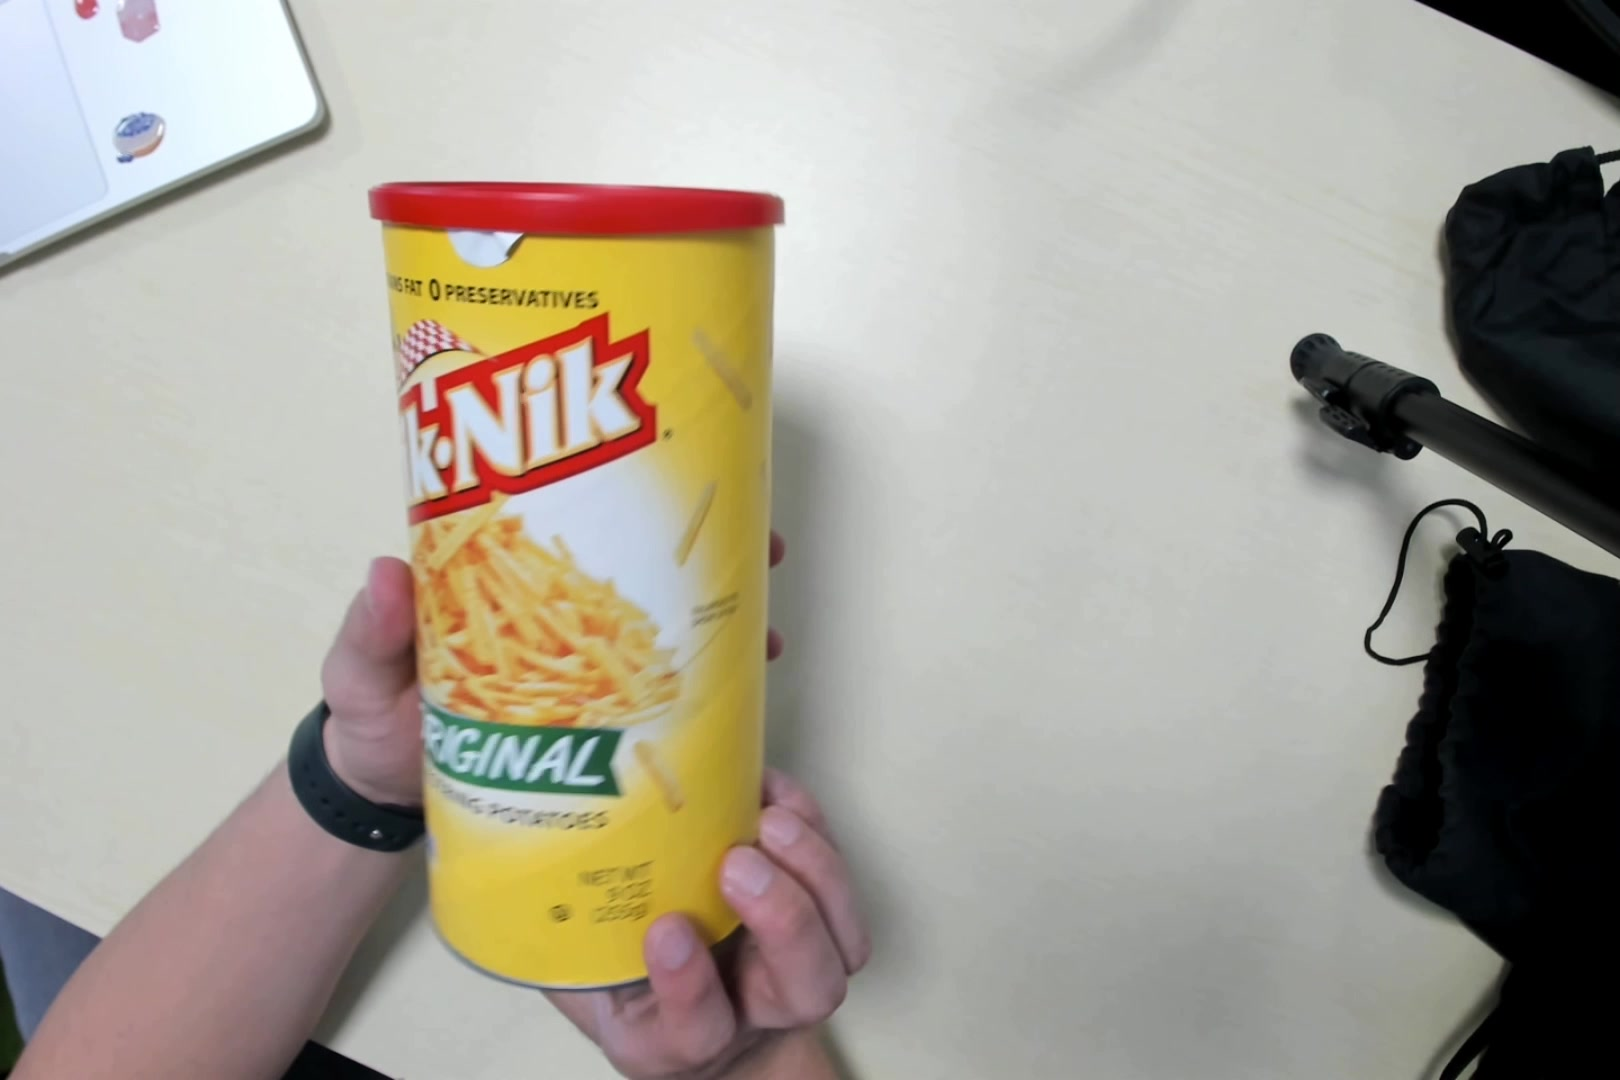PotatoChipsKeropok_200-299g_NonHalal_NonHealthy: (381, 182, 777, 984)
